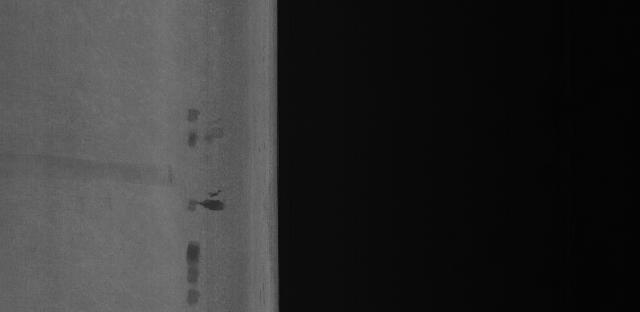oil_spot: (180, 107, 229, 147), (178, 235, 204, 309), (177, 192, 233, 222)
